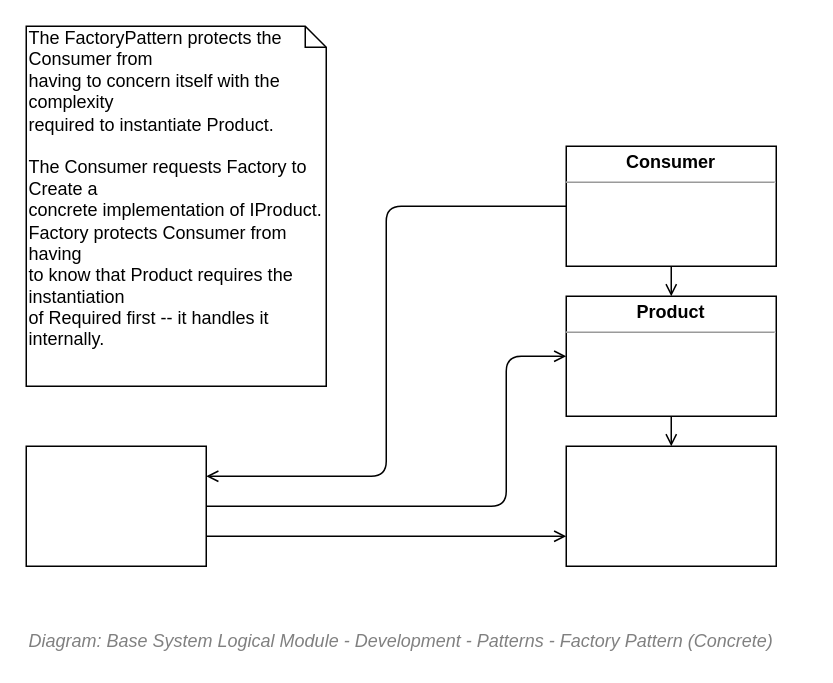
This 833x683 diagram has some shape labels left out. The shapes that lost their labels are listed below. From the top down, each one's box as (x1, y1, x2, y2) in pixels, then its label:
(25, 445, 206, 566): ProductFactory + Create(): Product
(565, 445, 776, 566): Required
